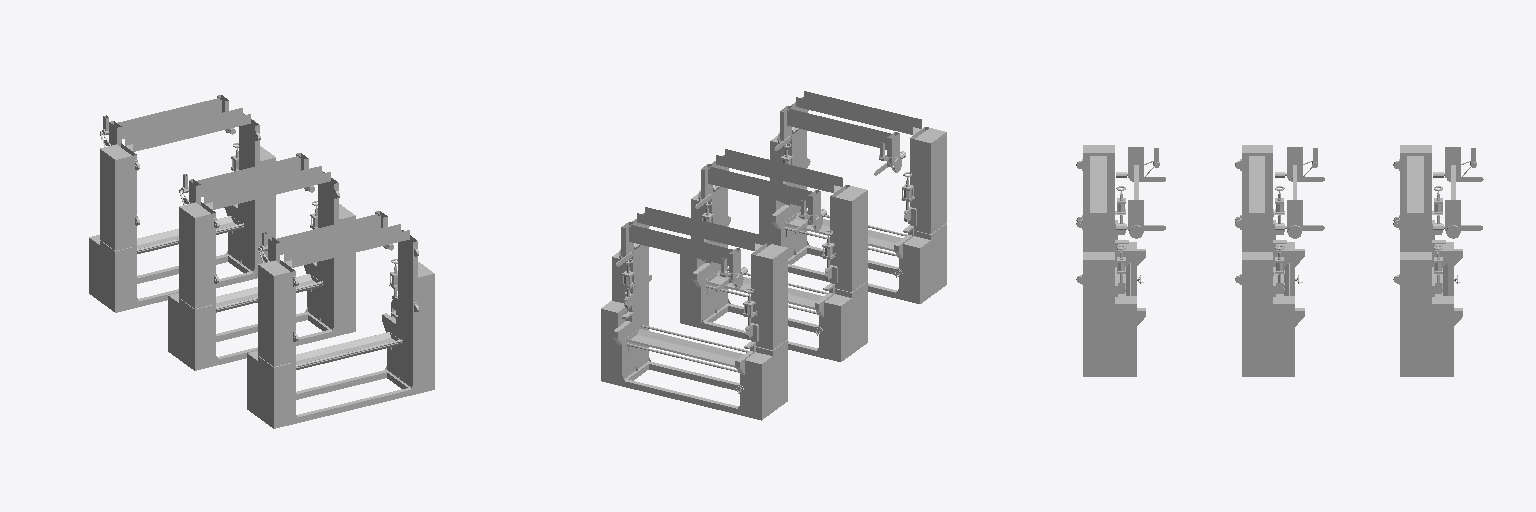
Rendered from bcj.obj.
The picture shows the model from 3 angles: view 1: azimuth 30°, elevation 25°; view 2: azimuth 150°, elevation 25°; view 3: azimuth 270°, elevation 25°; orthographic projection.
Visible parts, largest first — view 1: bcj_立方体:035_立方体:075.012; view 2: bcj_立方体:035_立方体:075.012; view 3: bcj_立方体:035_立方体:075.012.
Part boxes in pixels (x1,y1,x2,y2): bcj_立方体:035_立方体:075.012: (89, 95, 434, 428); bcj_立方体:035_立方体:075.012: (601, 91, 946, 420); bcj_立方体:035_立方体:075.012: (1076, 145, 1483, 376).
Bounding box in the file's own units: 13.13 × 12.68 × 28.75.